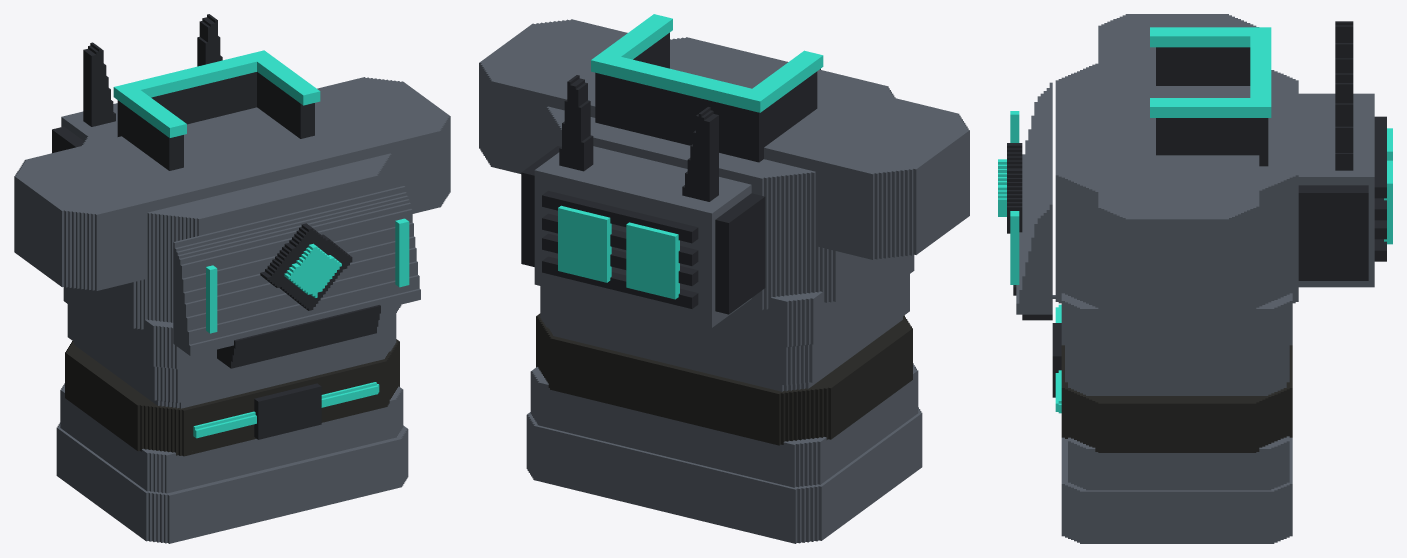
The model's file is armor_power_worn_body.glb.
The picture shows the model from 3 angles, left to right: view 1: azimuth 30°, elevation 25°; view 2: azimuth 150°, elevation 25°; view 3: azimuth 270°, elevation 25°; orthographic projection. The views are drawn at different scales.
Visible parts, largest first — view 1: armor_power_worn_body:compound; view 2: armor_power_worn_body:compound; view 3: armor_power_worn_body:compound.
Boxes of the visible parts, left/top/right/bottom form: armor_power_worn_body:compound: left=14, top=14, right=450, bottom=543; armor_power_worn_body:compound: left=479, top=14, right=969, bottom=543; armor_power_worn_body:compound: left=998, top=14, right=1392, bottom=543.
Bounding box in the file's own units: 0.64 × 0.612 × 0.52.
